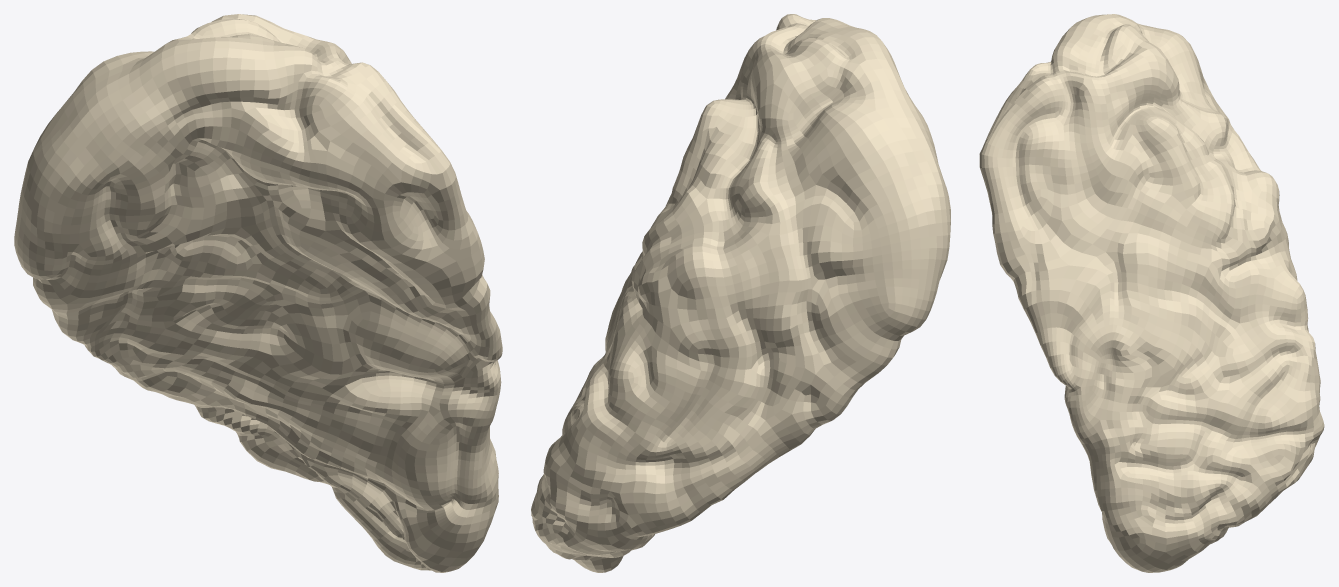
File: palatine-tonsil-female-left.glb
3 renders of one model, left to right at view 1: azimuth 30°, elevation 25°; view 2: azimuth 150°, elevation 25°; view 3: azimuth 270°, elevation 25°, orthographic. The views are drawn at different scales.
Visible parts, largest first — view 1: VH_F_palatine_tonsil_L; view 2: VH_F_palatine_tonsil_L; view 3: VH_F_palatine_tonsil_L.
Boxes of the visible parts, <box> form: VH_F_palatine_tonsil_L: <box>14,14,502,572</box>; VH_F_palatine_tonsil_L: <box>531,14,950,572</box>; VH_F_palatine_tonsil_L: <box>979,14,1324,572</box>.
Bounding box in the file's own units: 0.0196 × 0.0263 × 0.0179.
